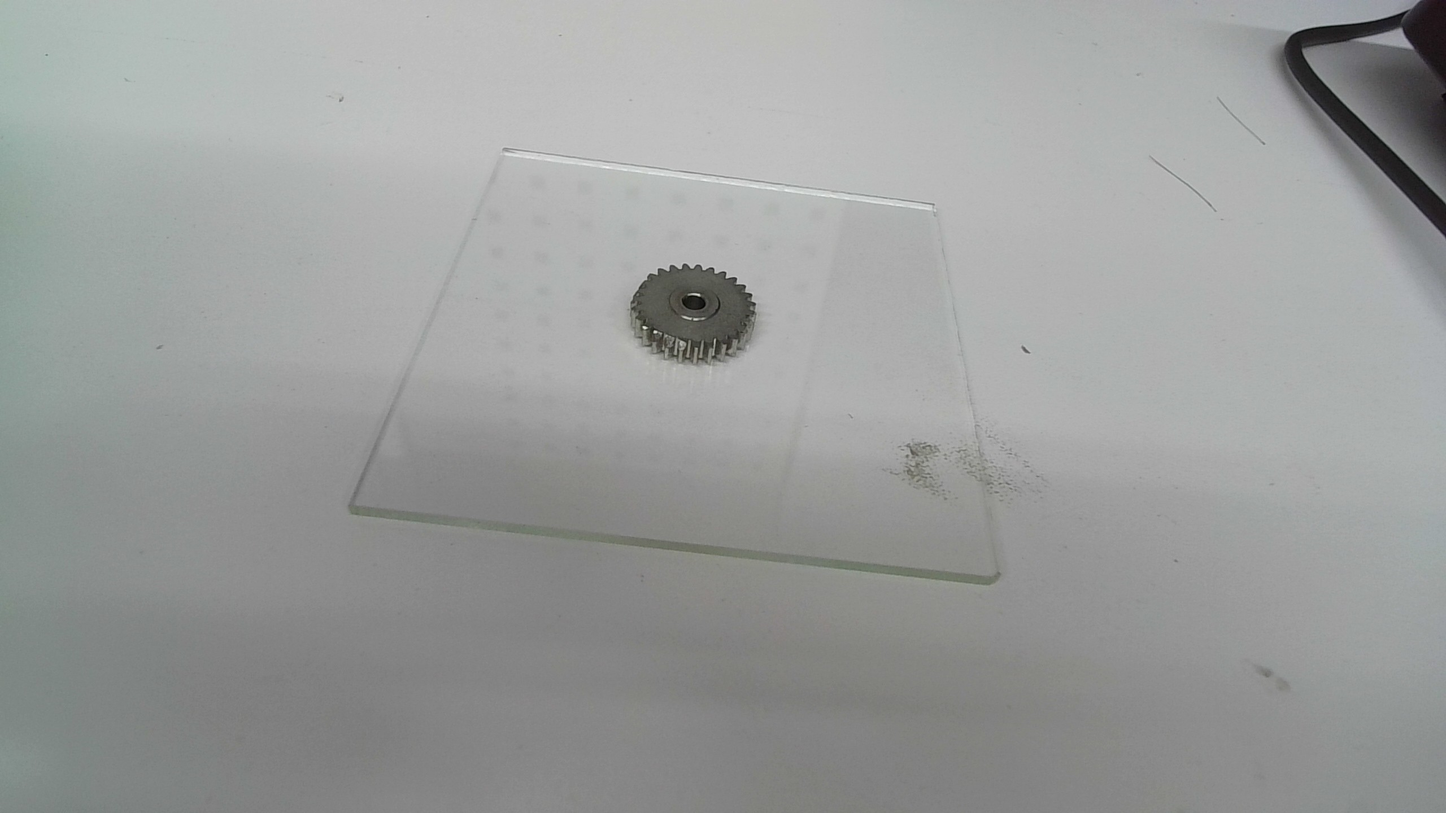gear: (626, 260, 760, 367)
